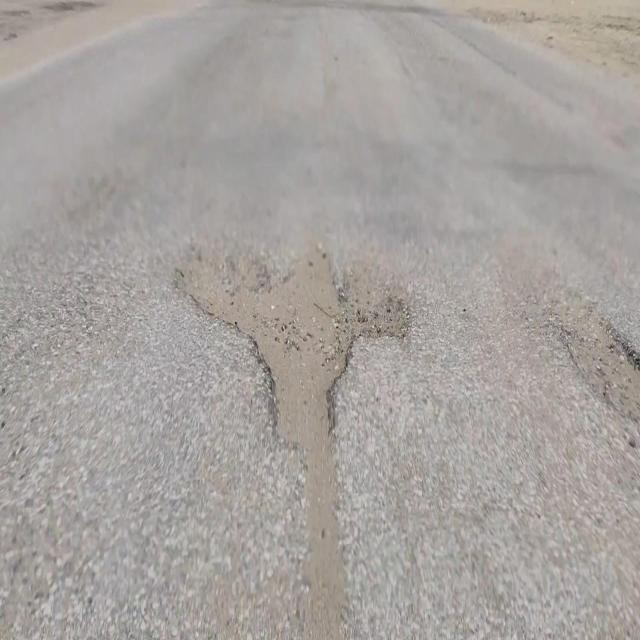Pothole: (181, 226, 412, 460), (549, 303, 638, 426)
